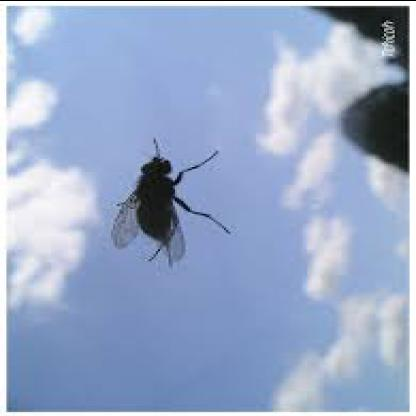other: (96, 136, 228, 270)
